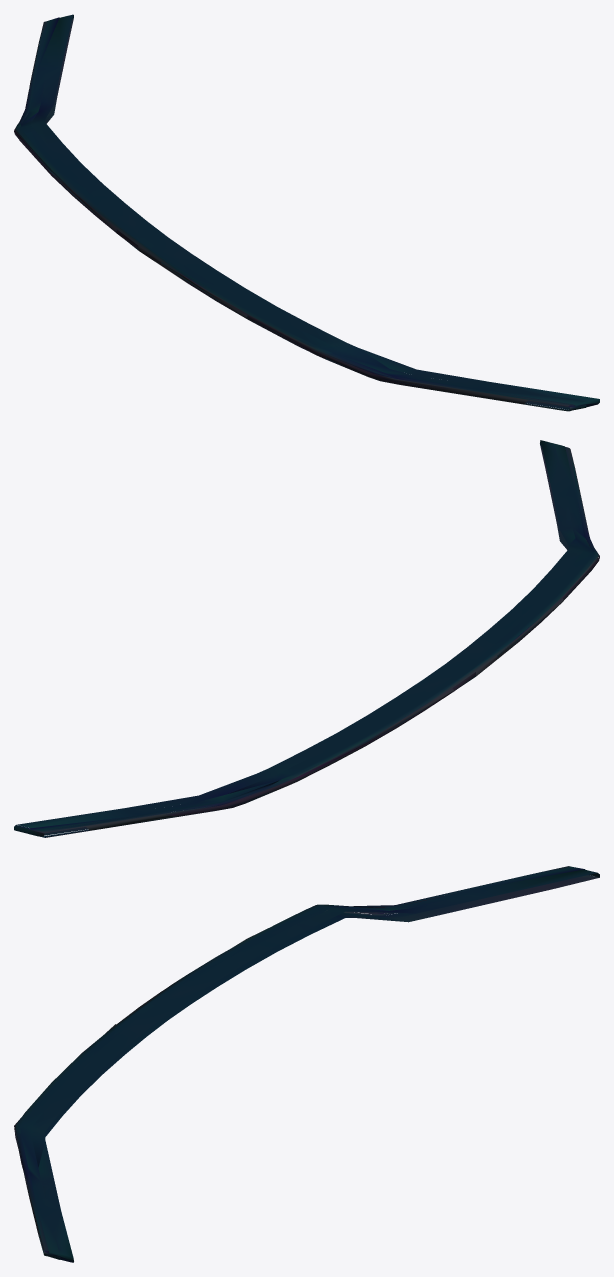
Rendered from unsorted_08.glb.
3 renders of one model, top to bottom at view 1: azimuth 30°, elevation 25°; view 2: azimuth 150°, elevation 25°; view 3: azimuth 330°, elevation 25°, orthographic.
Parts seen in each view (by area): view 1: black_12; view 2: black_12; view 3: black_12.
Boxes of the visible parts, x1=… form: black_12: x1=14, y1=14, x2=599, y2=411; black_12: x1=14, y1=440, x2=599, y2=837; black_12: x1=14, y1=866, x2=599, y2=1262.
Bounding box in the file's own units: 0.3539 × 0.0383 × 1.62.
